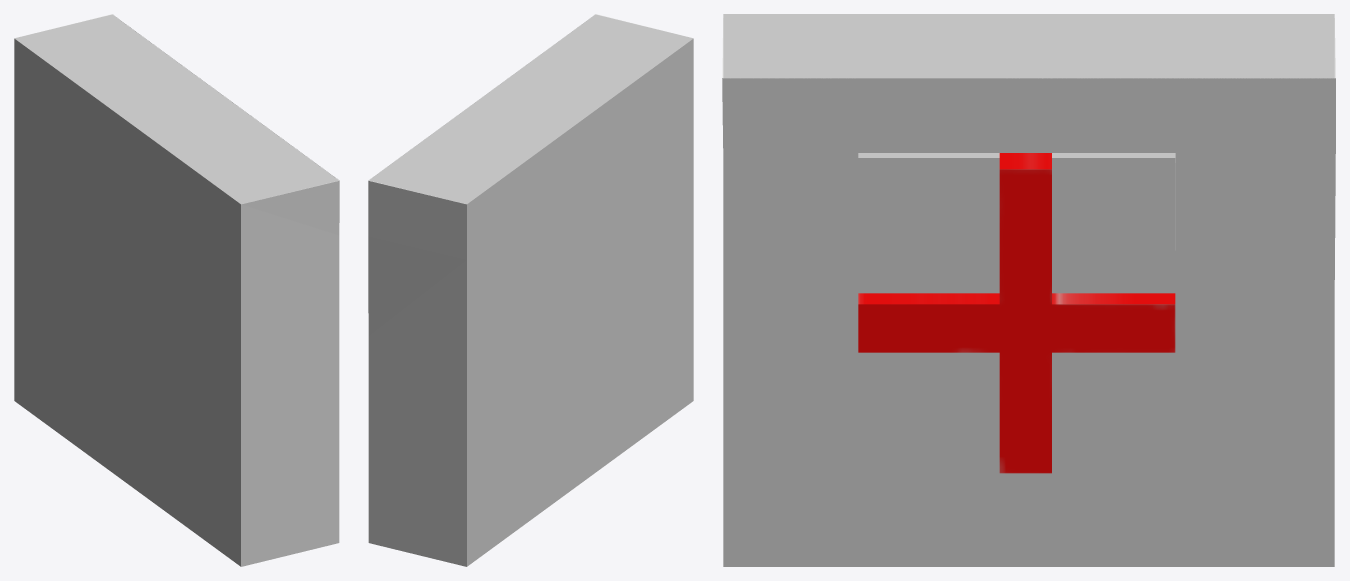
File: Health_Pack.fbx
3 renders of one model, left to right at view 1: azimuth 30°, elevation 25°; view 2: azimuth 150°, elevation 25°; view 3: azimuth 270°, elevation 25°, orthographic. The views are drawn at different scales.
Parts seen in each view (by area): view 1: pCube1; view 2: pCube1; view 3: pCube1.
Boxes of the visible parts, bbox=[...] form: pCube1: bbox=[14, 14, 339, 566]; pCube1: bbox=[368, 14, 693, 566]; pCube1: bbox=[722, 14, 1335, 566].
Bounding box in the file's own units: 20.61 × 58.08 × 66.12.
